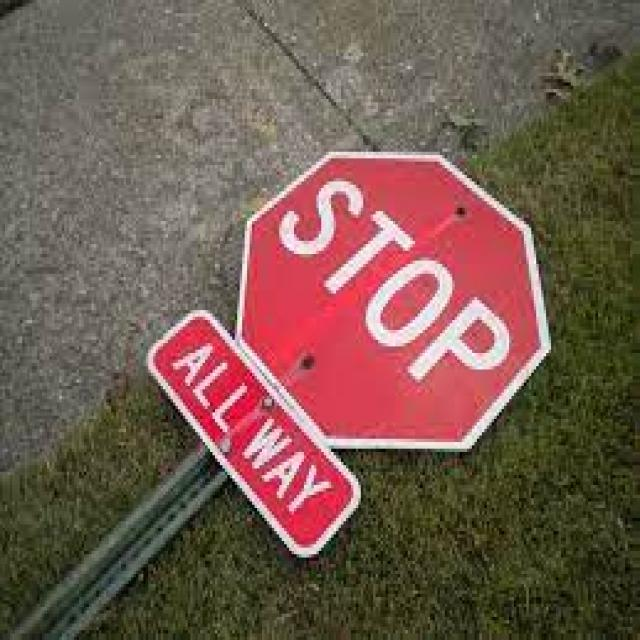stop-sign: (246, 106, 522, 456)
